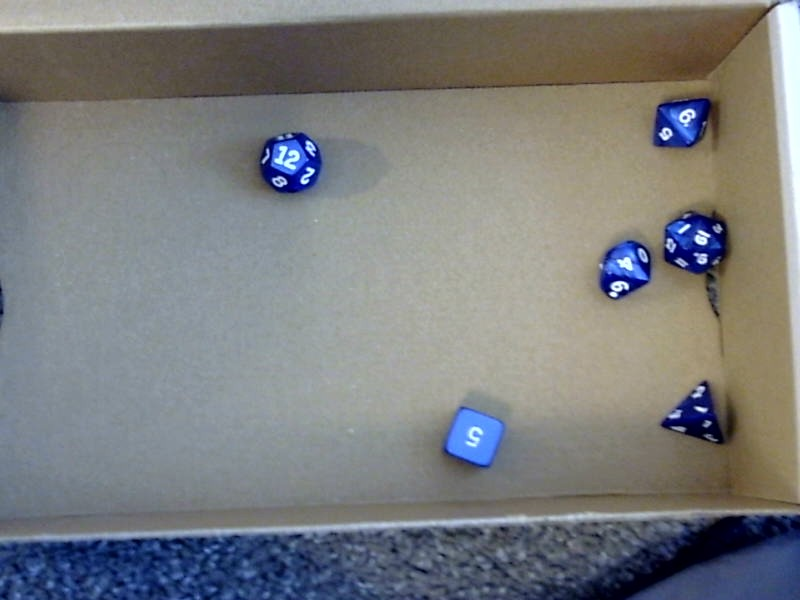d10 4: (590, 239, 652, 297)
d12 12: (255, 129, 326, 193)
d20 19: (660, 208, 729, 275)
d4 1: (657, 373, 724, 448)
d6 5: (437, 400, 508, 471)
d8 6: (651, 99, 711, 148)
